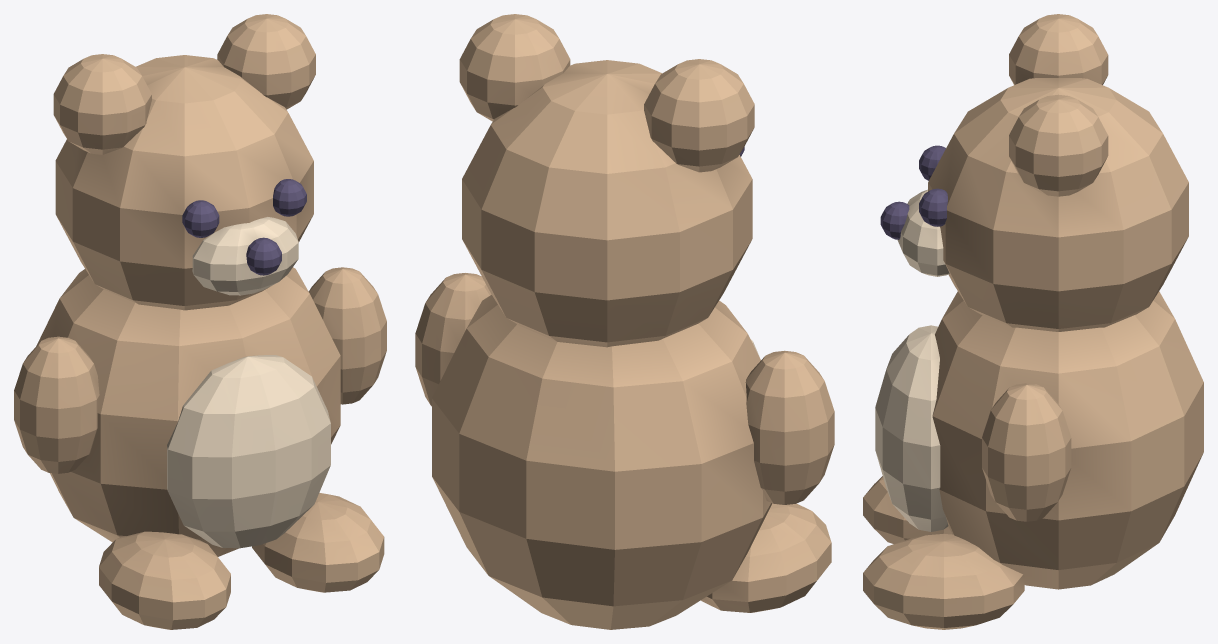
The model's file is VTeddy.fbx.
The picture shows the model from 3 angles, left to right: view 1: azimuth 30°, elevation 25°; view 2: azimuth 150°, elevation 25°; view 3: azimuth 270°, elevation 25°; orthographic projection. The views are drawn at different scales.
Visible parts, largest first — view 1: VTeddy; view 2: VTeddy; view 3: VTeddy.
Boxes of the visible parts, x1,y1,x2,y2 form: VTeddy: (14,14,386,629); VTeddy: (415,14,834,629); VTeddy: (863,14,1203,629).
Bounding box in the file's own units: 0.6604 × 0.91 × 0.5349.
